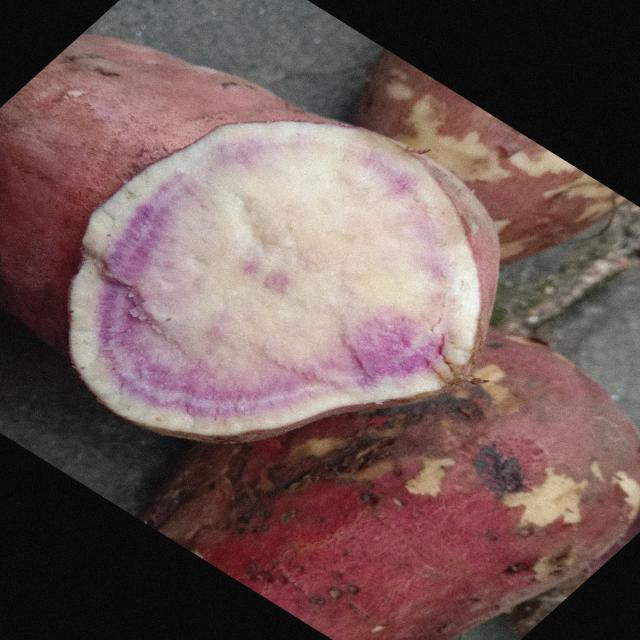Healthy Sweet Potato: (70, 121, 500, 441)
